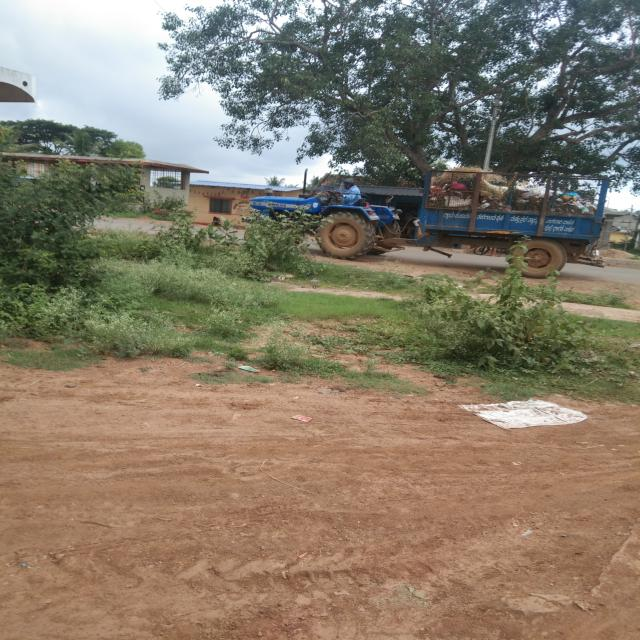tractor: (238, 140, 636, 264)
